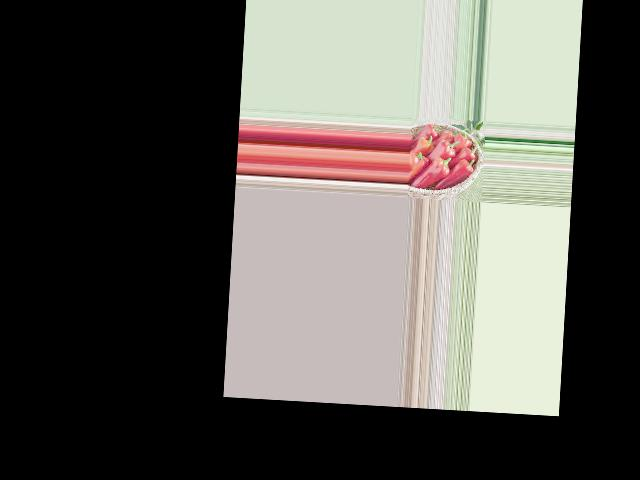bell_pepper: (457, 144, 479, 162)
